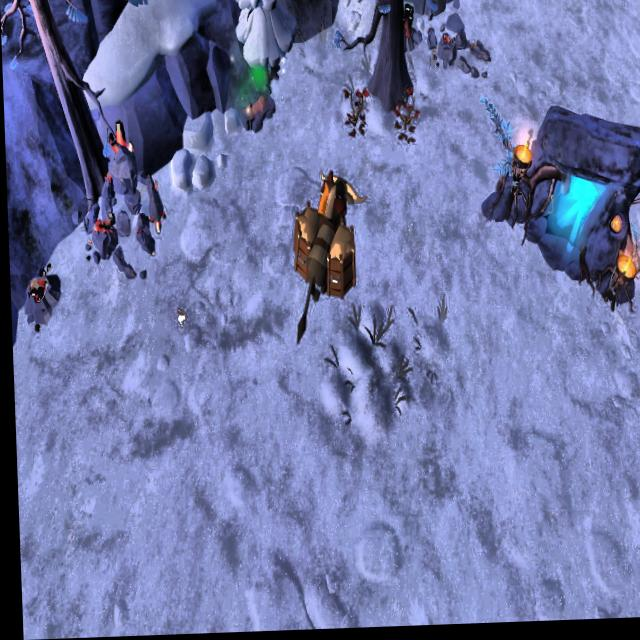ore_t5: (400, 6, 417, 49)
